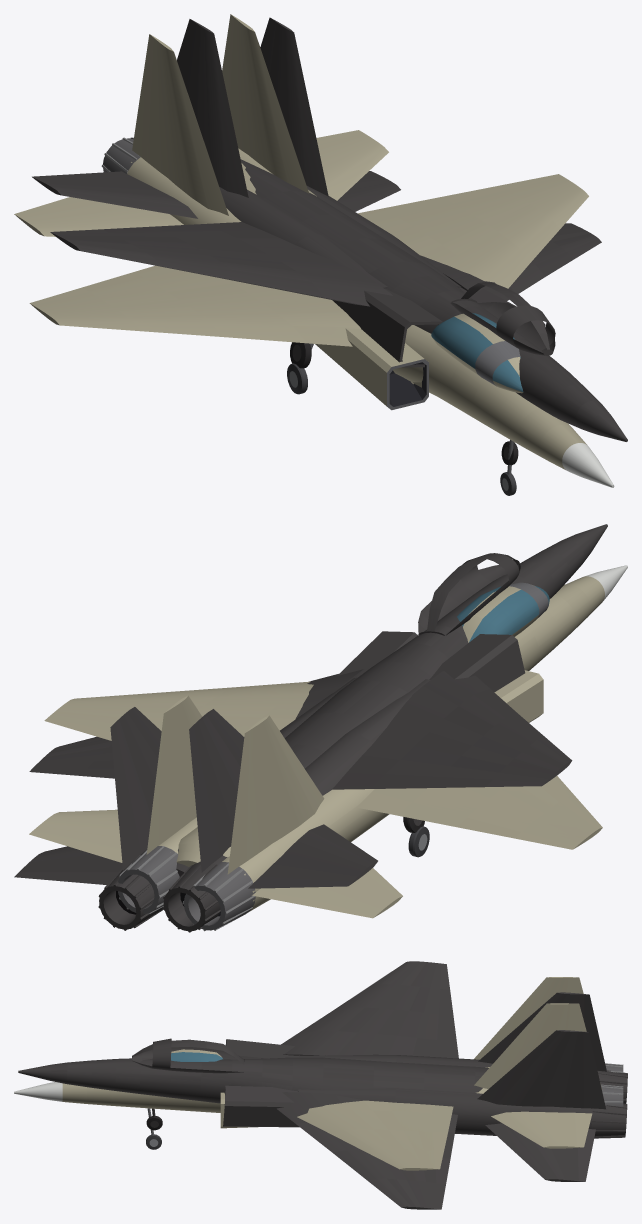
File: jet__f_15k_slam_eagle.glb
The picture shows the model from 3 angles, top to bottom: view 1: azimuth 30°, elevation 25°; view 2: azimuth 150°, elevation 25°; view 3: azimuth 270°, elevation 25°; orthographic projection. The views are drawn at different scales.
Parts seen in each view (by area): view 1: Fuselage_Mesh, Wreck; view 2: Wreck, Fuselage_Mesh; view 3: Wreck, Fuselage_Mesh.
Part boxes in pixels (x1,y1,x2,y2): Fuselage_Mesh: (14, 14, 614, 495); Wreck: (32, 17, 627, 464); Wreck: (14, 524, 607, 932); Fuselage_Mesh: (29, 565, 627, 931); Wreck: (18, 961, 627, 1209); Fuselage_Mesh: (14, 977, 623, 1170).
Size of what is drawn, in the model's own units: 13.4 by 5.61 by 19.63.
